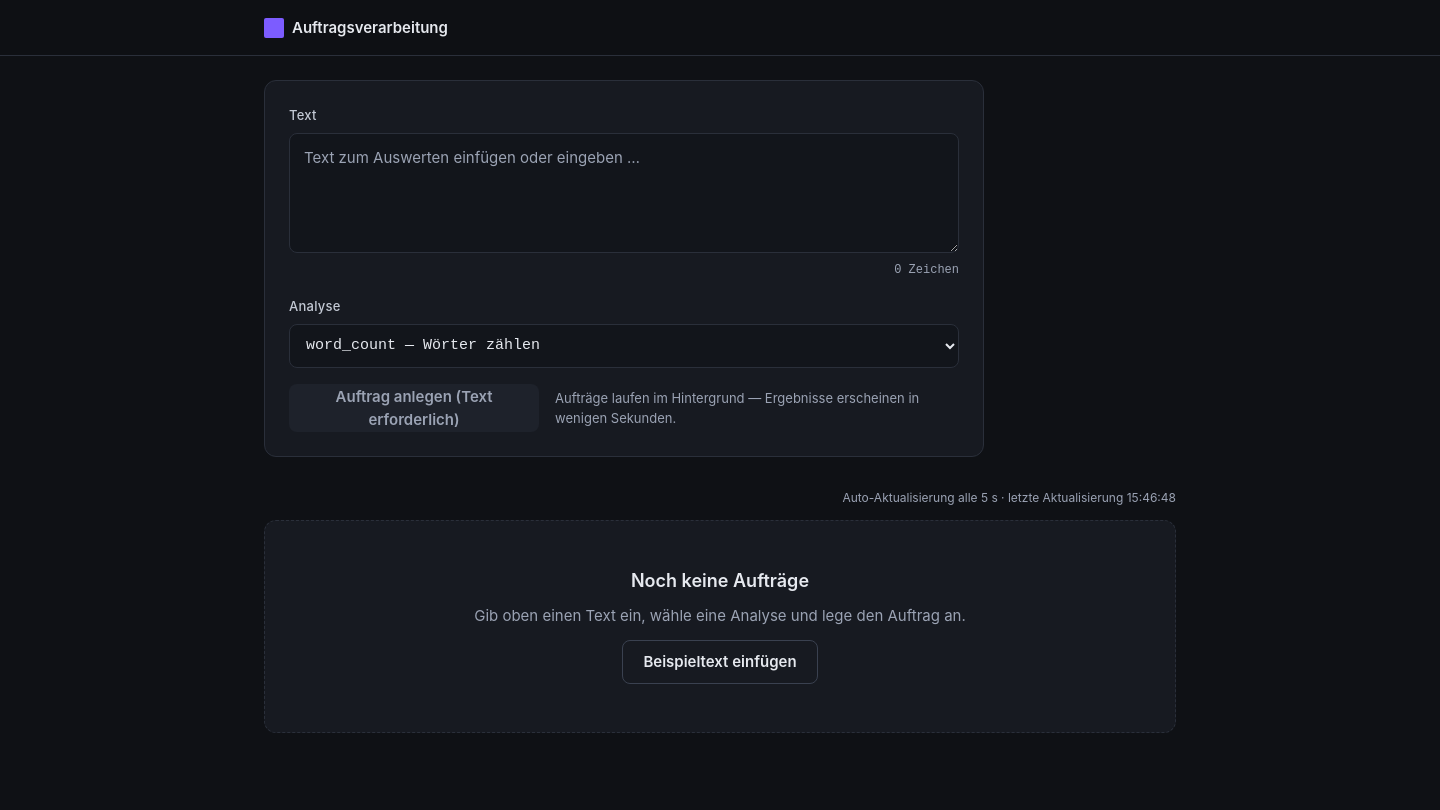
it: App shell › fills the text area with the example text when the empty-state button is clicked
Check: the heading "Noch keine Aufträge" is shown, box [631,569,809,592]
Click the button "Beispieltext einfügen" at (720, 662), box [622,640,818,684]
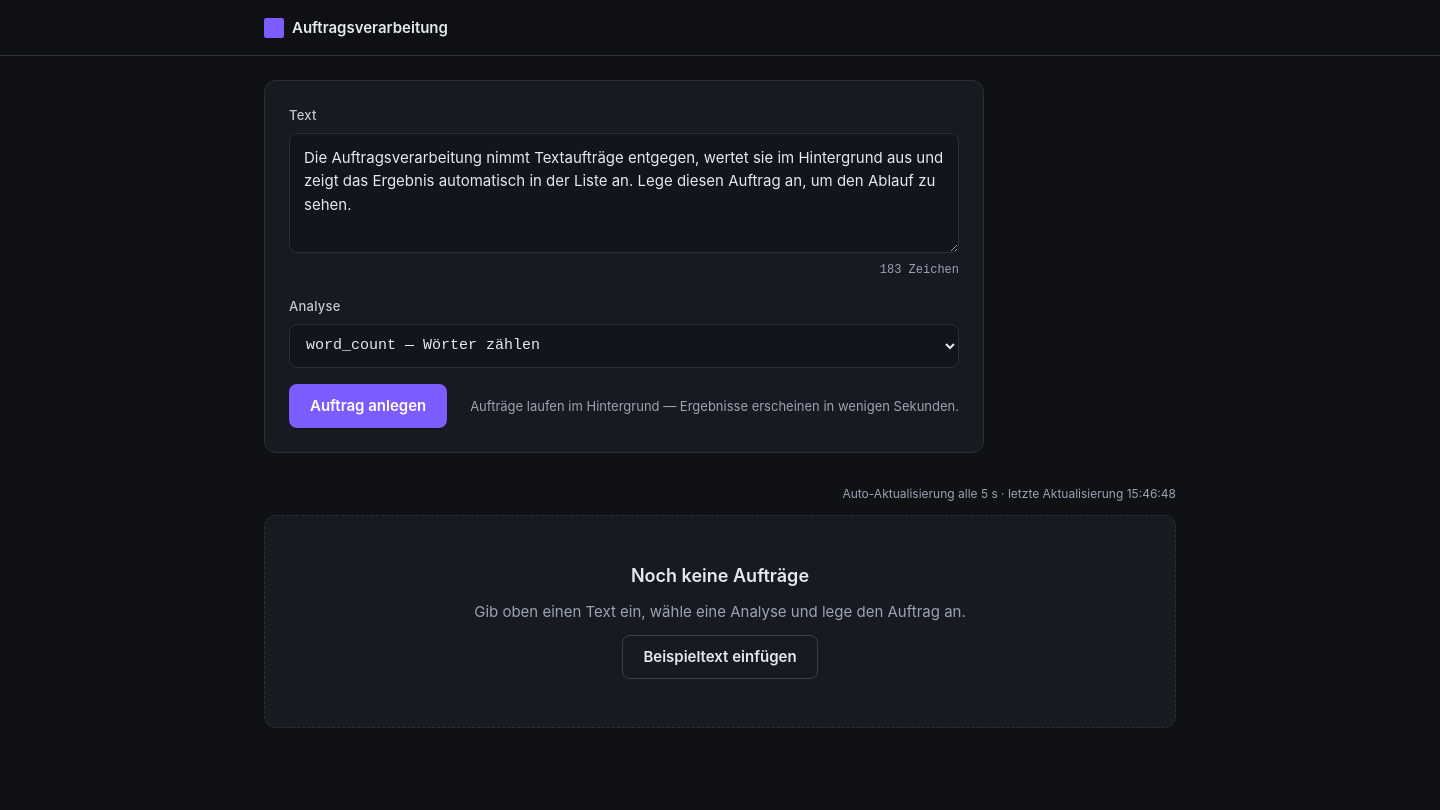
Check: the text box labelled "Text" holds "Die Auftragsverarbeitung nimmt Textaufträge entgegen, wertet sie im Hintergrund aus und zeigt das Ergebnis automatisch in der Liste an. Lege diesen Auftrag an, ", box [289,133,959,253]
